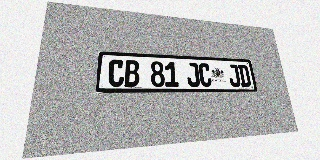1: (164, 62, 179, 87)
8: (150, 61, 165, 87)
B: (124, 60, 139, 87)
C: (108, 59, 124, 87), (198, 63, 212, 87)
D: (238, 65, 251, 87)
J: (186, 62, 200, 87), (227, 64, 241, 87)
